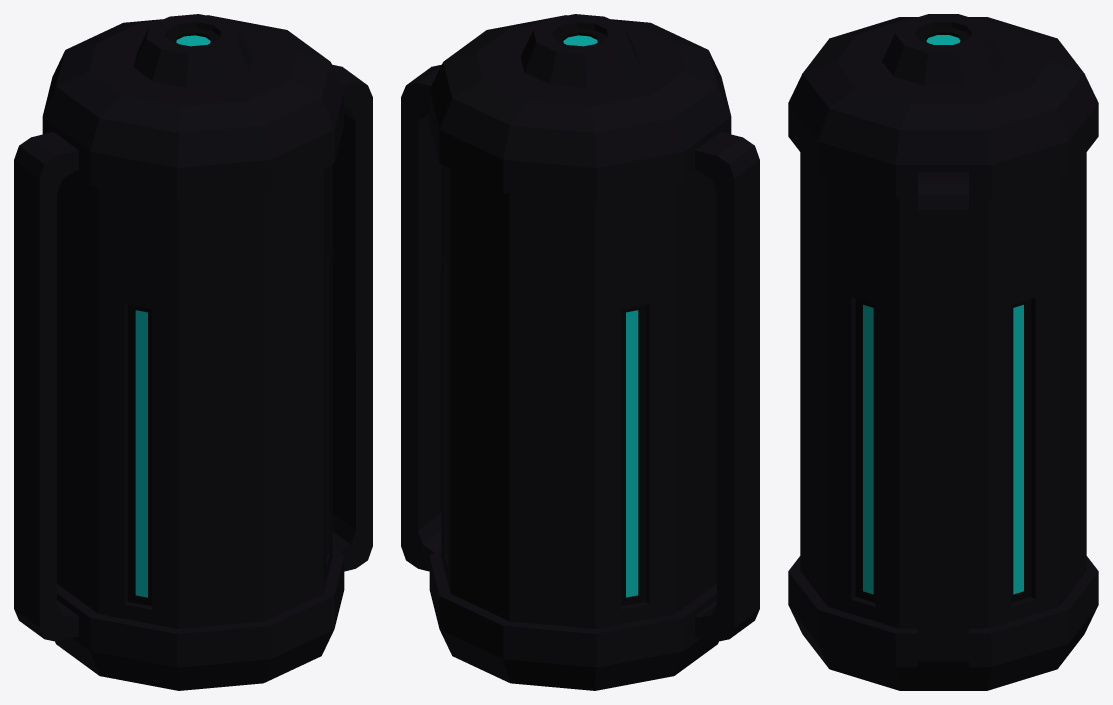
File: SM_Cellule_Compact.obj
3 renders of one model, left to right at view 1: azimuth 30°, elevation 25°; view 2: azimuth 150°, elevation 25°; view 3: azimuth 270°, elevation 25°, orthographic.
Parts seen in each view (by area): view 1: SM_Cellule_Compact; view 2: SM_Cellule_Compact; view 3: SM_Cellule_Compact.
Part boxes in pixels (x1,y1,x2,y2): SM_Cellule_Compact: [14, 14, 372, 690]; SM_Cellule_Compact: [401, 14, 759, 690]; SM_Cellule_Compact: [788, 14, 1098, 690].
Bounding box in the file's own units: 0.3744 × 0.6543 × 0.3002.
